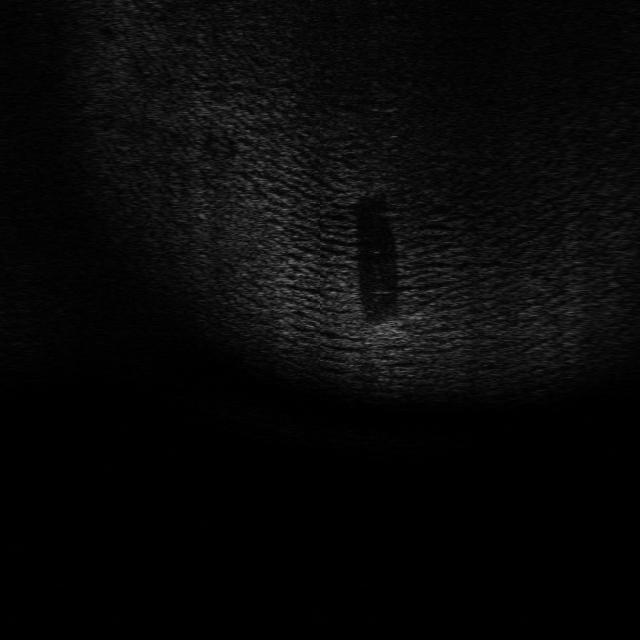cube: (363, 316, 406, 344)
